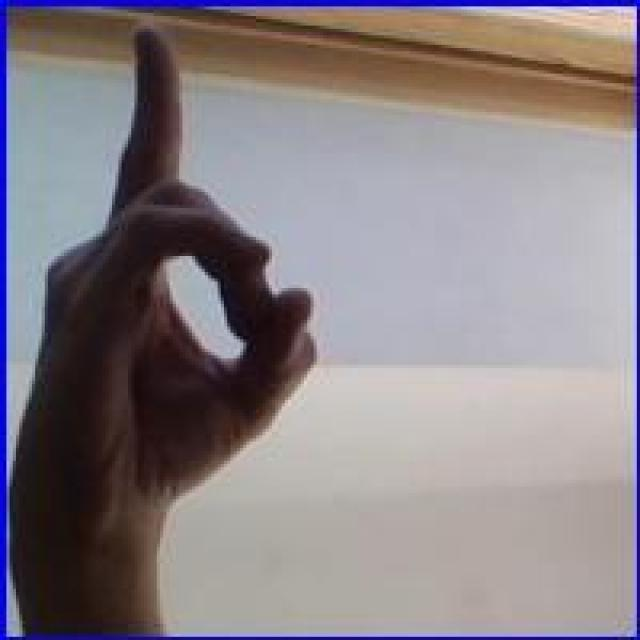D: (26, 18, 323, 548)
